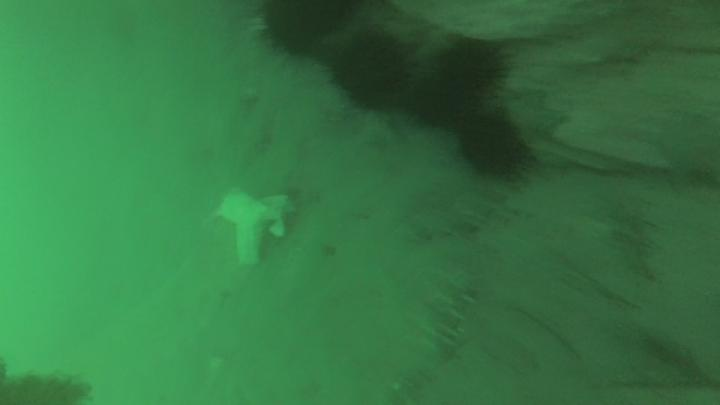echinus: (325, 31, 425, 116), (248, 1, 372, 68), (457, 110, 538, 186), (409, 68, 482, 131), (439, 37, 515, 96)
